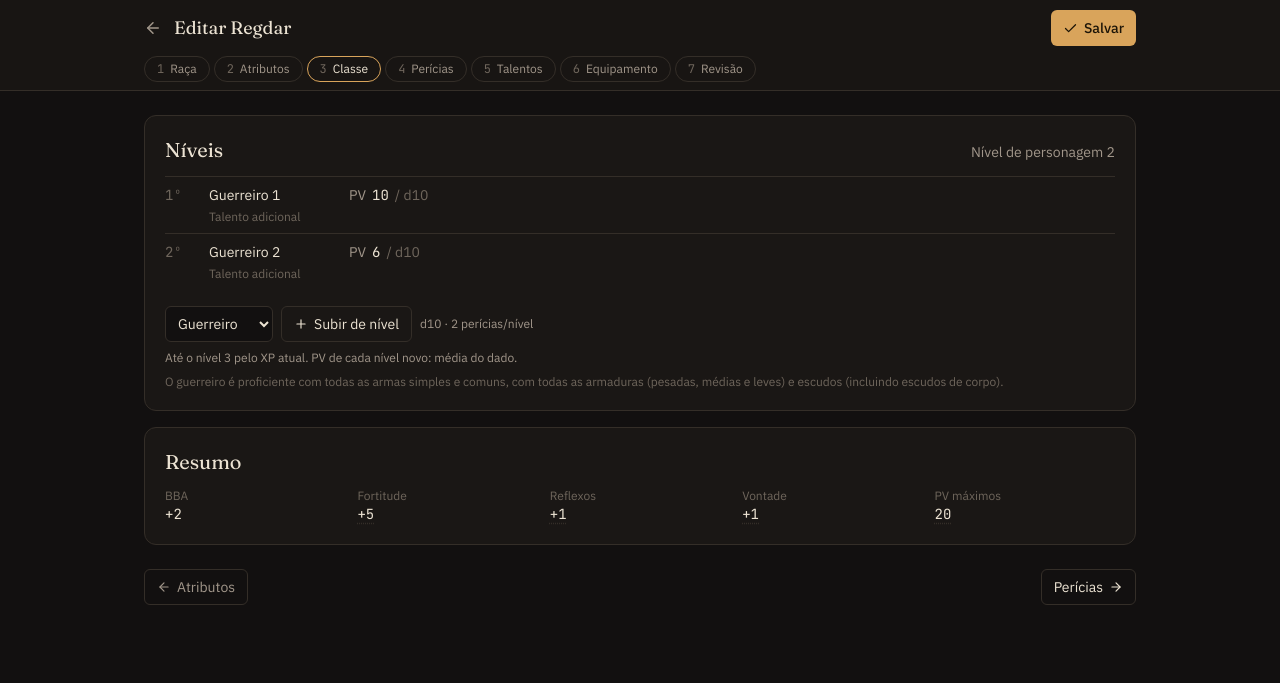
it: CharacterWizard › jogador editando: raça, atributos e níveis ganhos travados; sobe só até o XP
The width and height of the screenshot is (1280, 683).
Click the button "Subir de nível": (346, 324) [281,306,412,342]
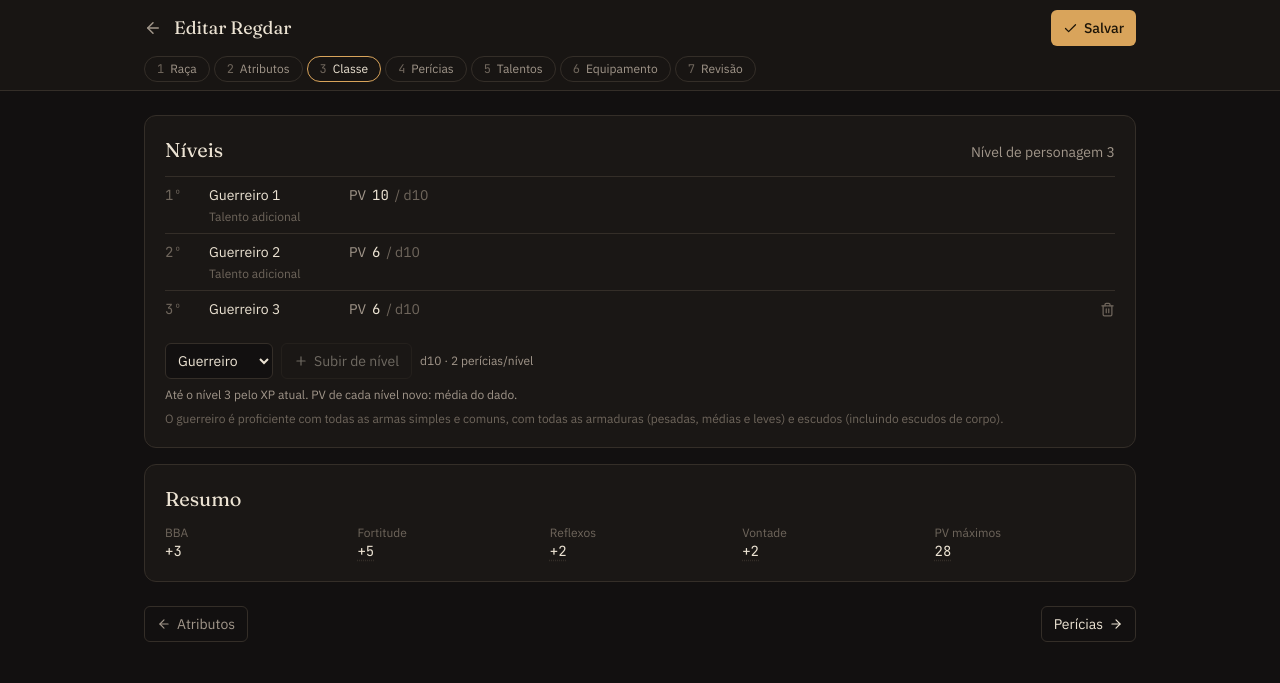
Now the button "Subir de nível" is disabled, box [281,343,412,379]
Now the button named "Remover último nível" is shown, box [1100,302,1115,316]
Click the button "2 Atributos": (258, 69) [214,56,303,82]
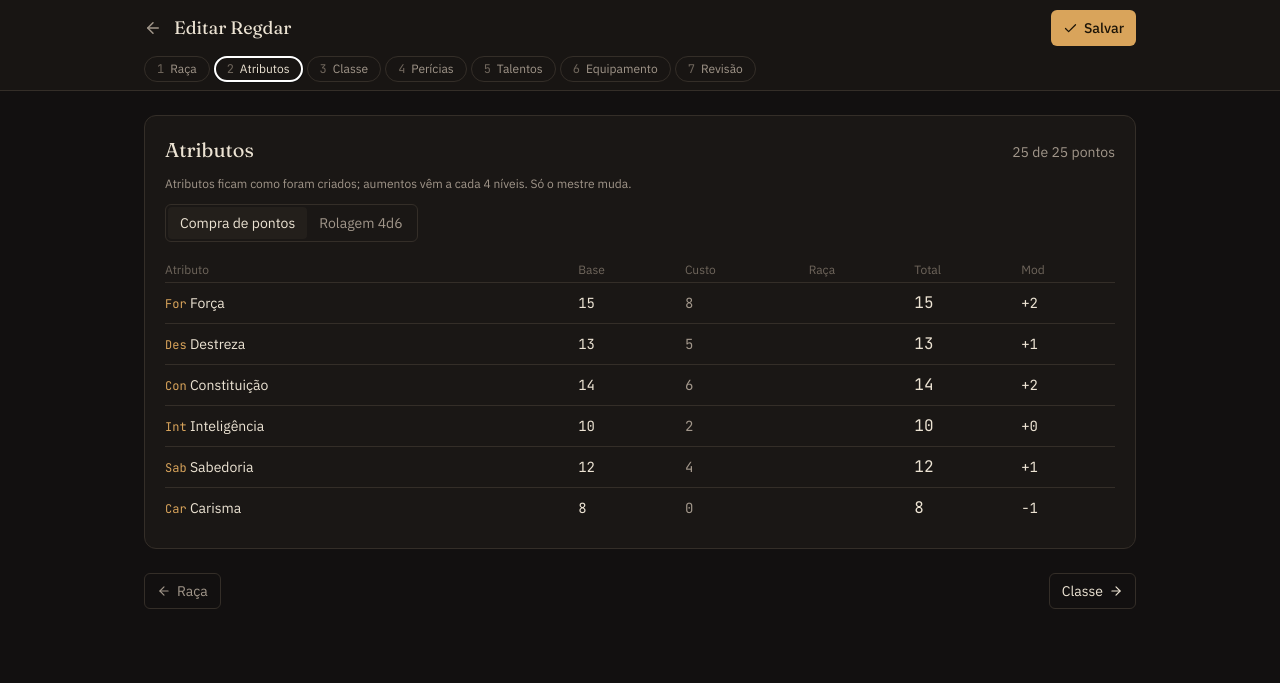
Now the text "Só o mestre muda" is shown, box [165,176,632,191]
Click the button "1 Raça": (177, 69) [144,56,210,82]
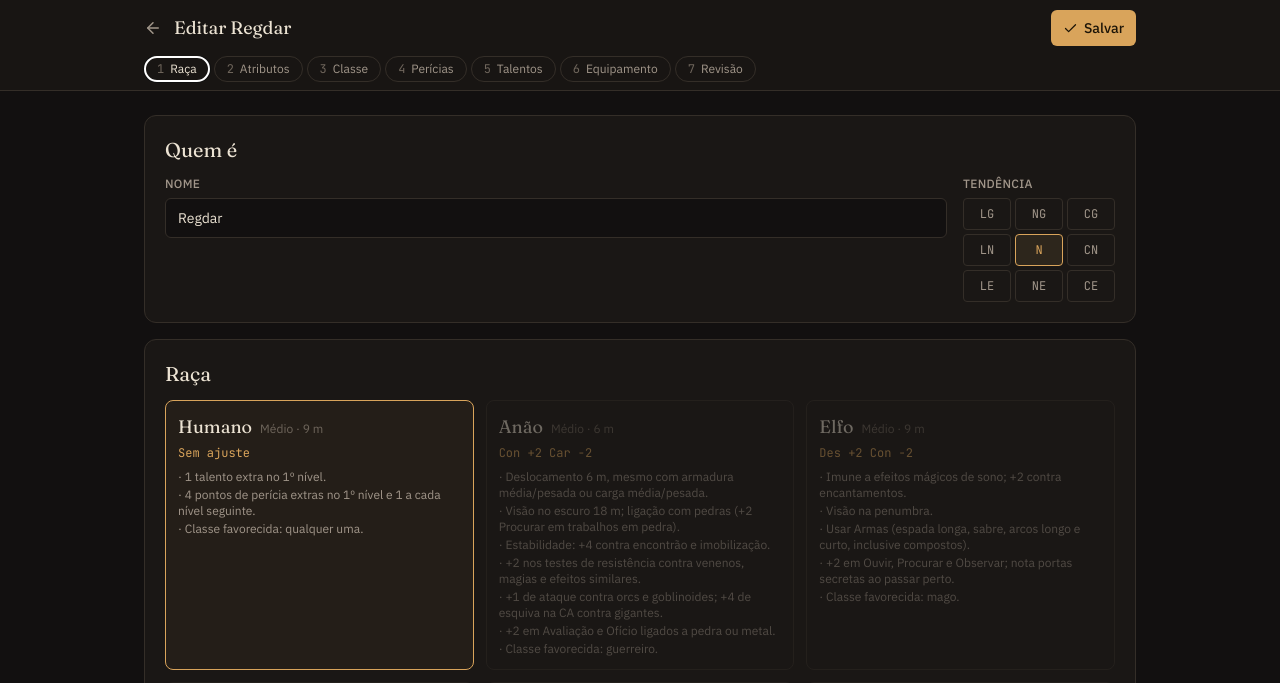
Now the button "Anão" is disabled, box [486,400,794,670]
